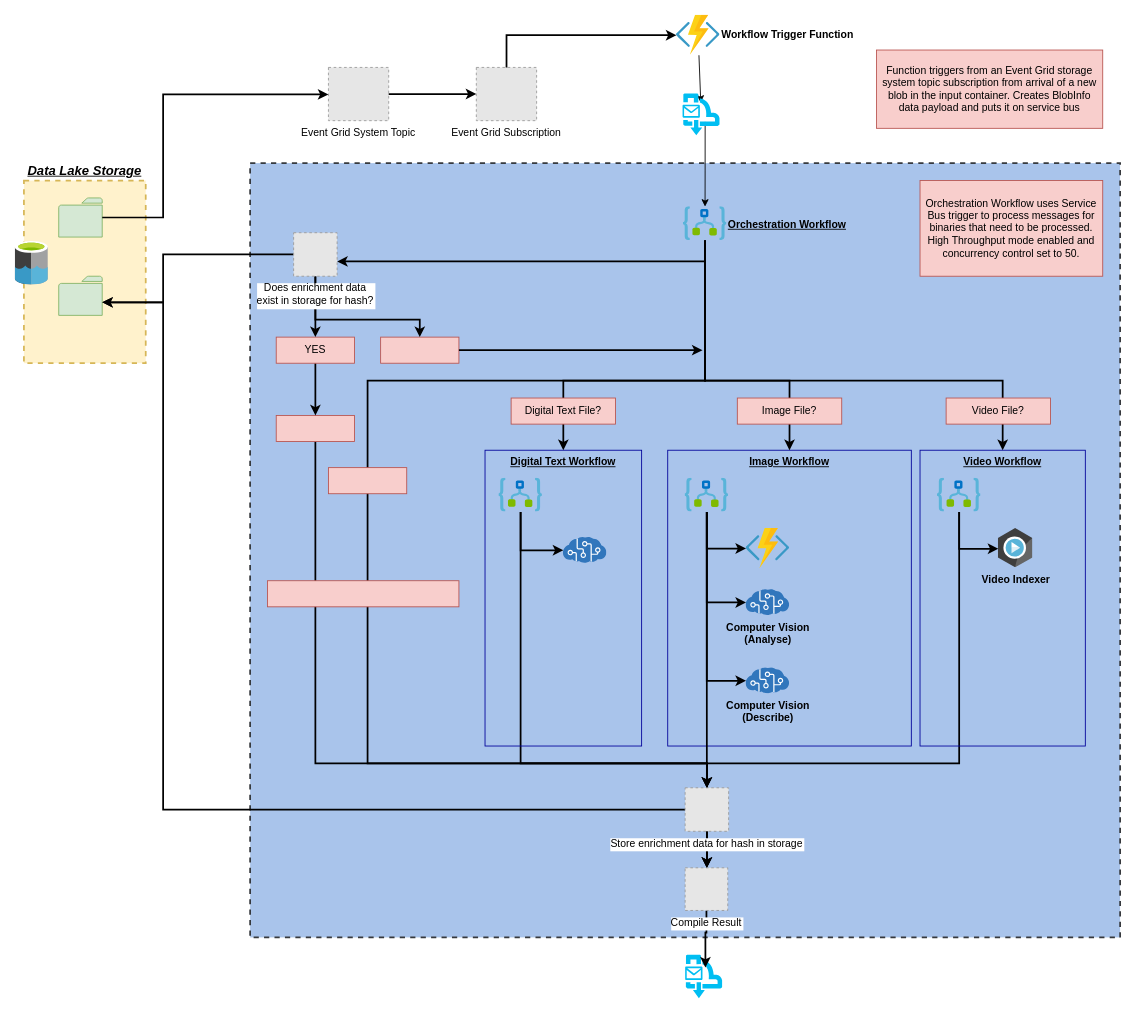
This 1135x1031 diagram has some shape labels left out. Grey dashed boxes stand in for pictures. The shapes that lost their labels are listed below. From the top down, each one's centre as x and y in pixels, then its label:
the point at 700,114: Inport Service Bus
the point at 80,217: Input
the point at 80,295: Enrichment-Data
the point at 419,349: NO
the point at 315,428: Duplicate file
the point at 367,480: Unknown File?
the point at 584,550: Text Analytics
the point at 767,548: Image Resize Function
the point at 363,593: Bypass enrichments
the point at 703,976: Export Service Bus
